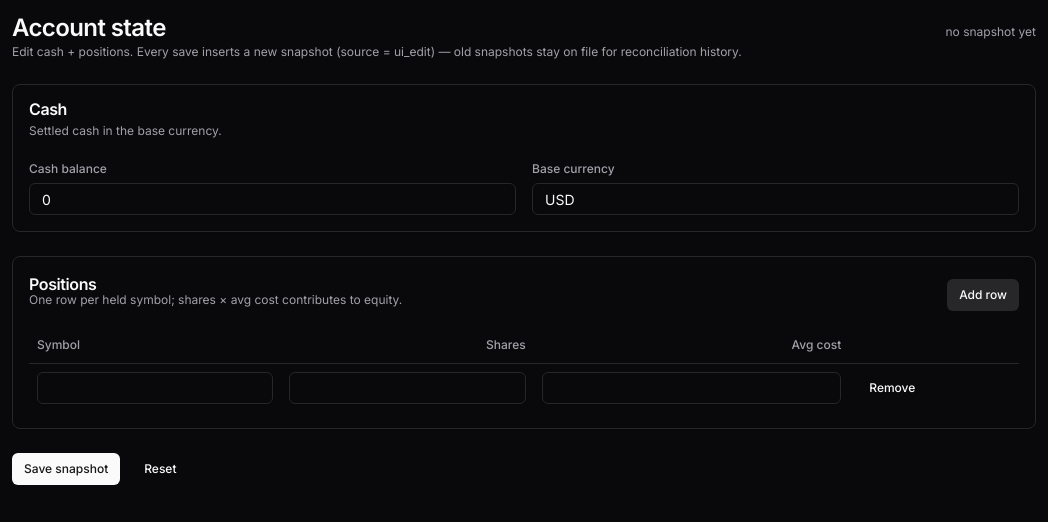
Test case: AccountEditPage (B023 F002) › rejects negative cash with an inline error message
This screenshot has width=1048, height=522.
Check: the text with test id "account-latest-state" shows "no snapshot", box [946, 24, 1036, 39]
Replace the text in the field with test id "account-cash-input" with "-1" at {"x": 272, "y": 199}, box [29, 183, 516, 215]
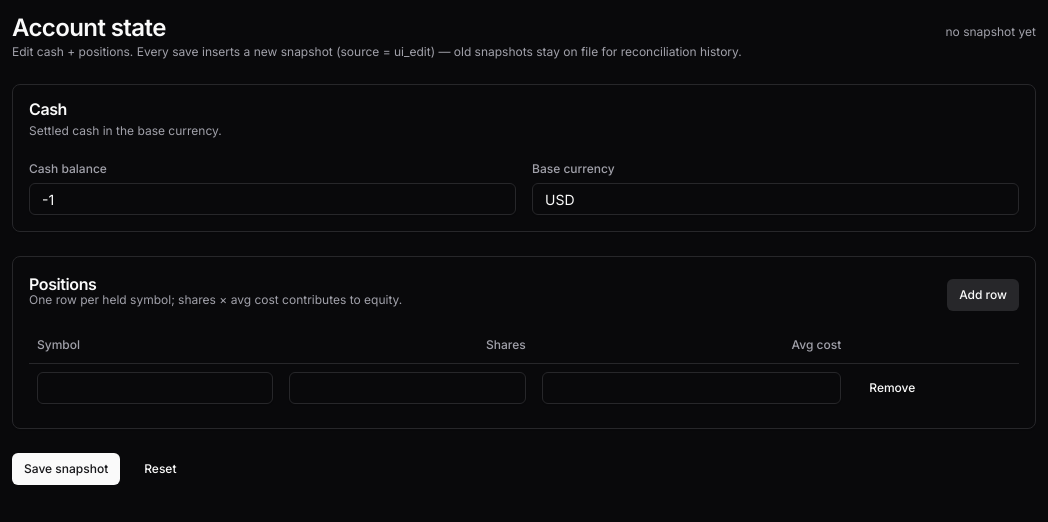
Submit the form with test id "account-edit-form"
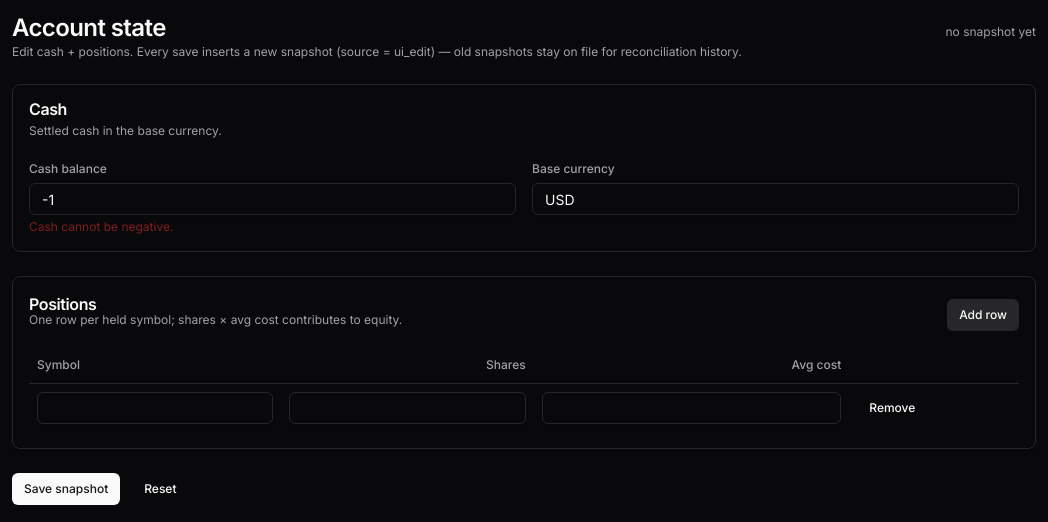
Check: the text "Cash cannot be negative." is shown, box [29, 219, 173, 234]
